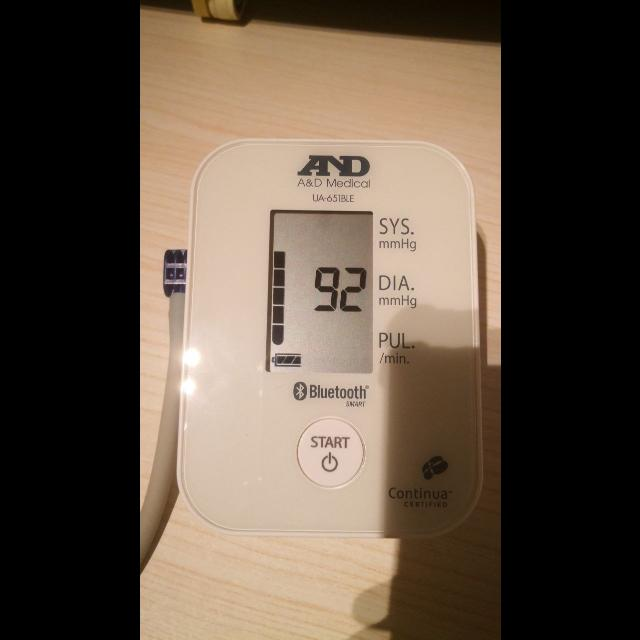Blood-Pressure-Monitor: (178, 139, 486, 536)
